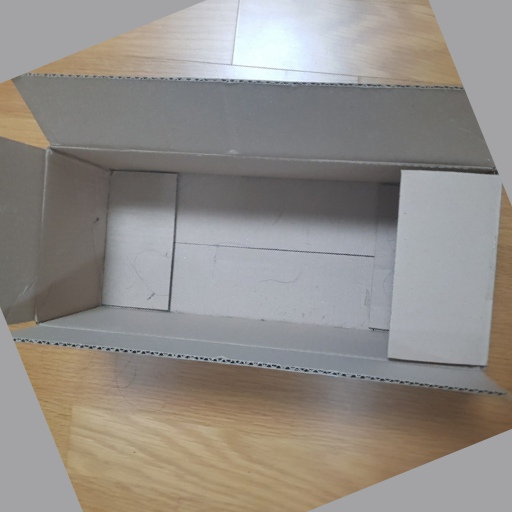Paper_0: (1, 70, 512, 404)
